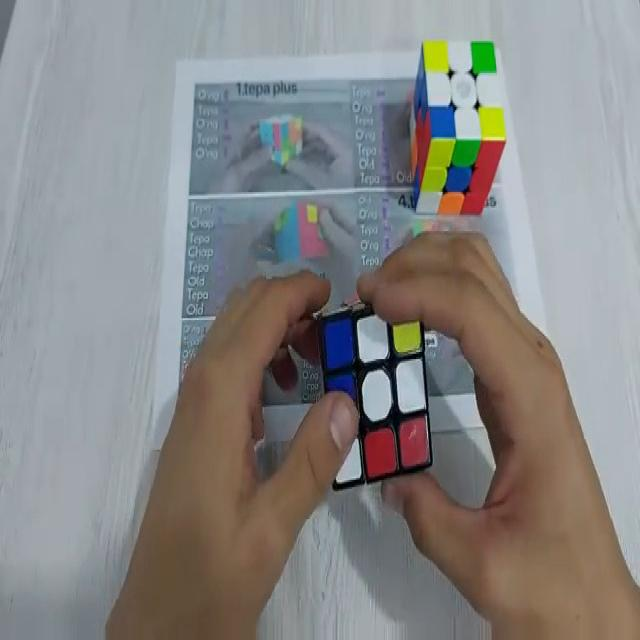Rub: (317, 301, 435, 493), (409, 37, 506, 218)
